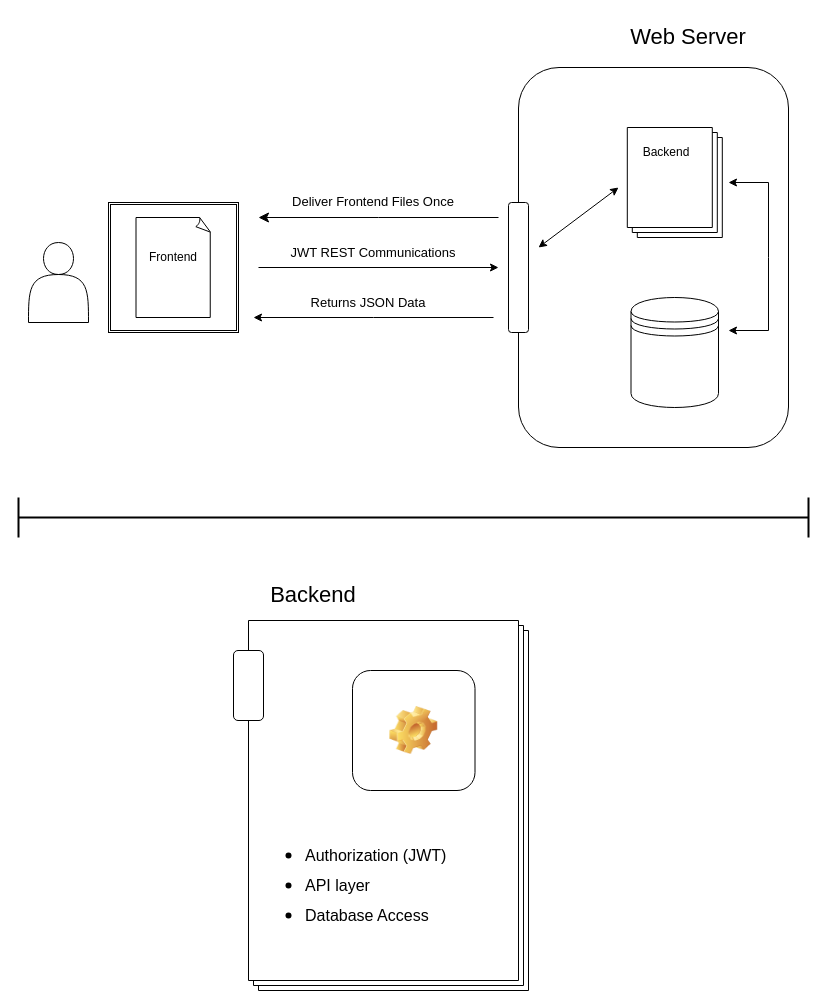
This 826x1008 diagram has some shape labels left out. The box of each missing label's shape, as (x1, y1, x2, y2) in pixels:
Application Logic: (352, 670, 475, 790)
DB: (630, 296, 718, 408)
